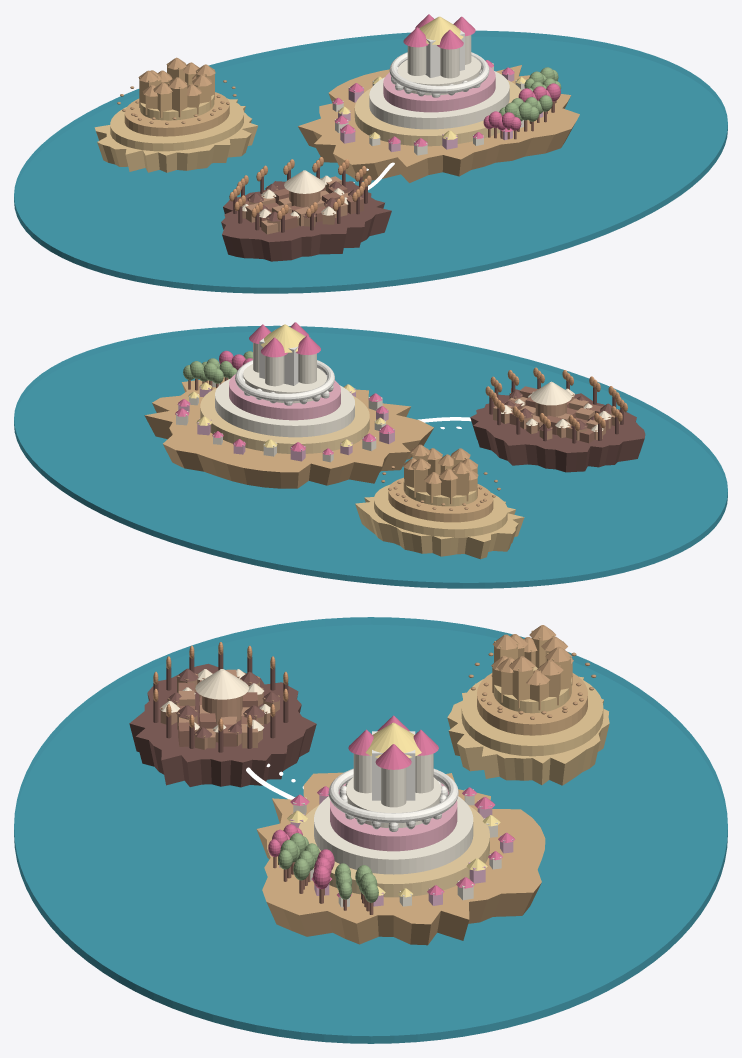
File: totto-land-food-geography.glb
3 views of the same model, one above another, from view 1: azimuth 30°, elevation 25°; view 2: azimuth 150°, elevation 25°; view 3: azimuth 270°, elevation 25° (orthographic). The views are drawn at different scales.
Parts seen in each view (by area): view 1: Totto Land food geography ocean stage, Whole Cake Island hero coast, Cacao Island whole-chocolate coast, Biscuits Island hero coast, Whole Cake sculpted tier 2, Biscuits Island cracker terrace 1, Whole Cake sculpted tier 1, Whole Cake sculpted tier 3, Biscuits Island cracker terrace 2, Whole Cake frosting garland, Whole Cake sculpted tier 4, Biscuits Island cracker terrace 3 (+5 smaller); view 2: Totto Land food geography ocean stage, Whole Cake Island hero coast, Cacao Island whole-chocolate coast, Biscuits Island hero coast, Whole Cake sculpted tier 1, Whole Cake sculpted tier 2, Biscuits Island cracker terrace 1, Whole Cake sculpted tier 3, Biscuits Island cracker terrace 2, Whole Cake frosting garland, Whole Cake sculpted tier 4, Biscuits Island cracker terrace 3 (+5 smaller); view 3: Totto Land food geography ocean stage, Whole Cake Island hero coast, Cacao Island whole-chocolate coast, Biscuits Island hero coast, Whole Cake sculpted tier 2, Biscuits Island cracker terrace 1, Whole Cake sculpted tier 1, Whole Cake sculpted tier 3, Biscuits Island cracker terrace 2, Whole Cake frosting garland, Whole Cake sculpted tier 4, Pudding home white chocolate roof (+7 smaller).
Boxes of the visible parts, x1,y1,x2,y2 form: Totto Land food geography ocean stage: (14, 30, 727, 293); Whole Cake Island hero coast: (298, 65, 579, 182); Cacao Island whole-chocolate coast: (221, 181, 391, 261); Biscuits Island hero coast: (94, 99, 257, 172); Whole Cake sculpted tier 2: (369, 71, 509, 129); Biscuits Island cracker terrace 1: (110, 98, 243, 151); Whole Cake sculpted tier 1: (354, 80, 521, 146); Whole Cake sculpted tier 3: (383, 66, 495, 112); Biscuits Island cracker terrace 2: (124, 92, 229, 136); Whole Cake frosting garland: (389, 52, 489, 93); Whole Cake sculpted tier 4: (397, 56, 481, 95); Biscuits Island cracker terrace 3: (140, 95, 214, 120); Totto Land food geography ocean stage: (14, 325, 727, 588); Whole Cake Island hero coast: (144, 377, 433, 488); Cacao Island whole-chocolate coast: (470, 388, 645, 472); Biscuits Island hero coast: (355, 497, 524, 559); Whole Cake sculpted tier 1: (200, 388, 369, 453); Whole Cake sculpted tier 2: (215, 378, 354, 437); Biscuits Island cracker terrace 1: (374, 484, 507, 537); Whole Cake sculpted tier 3: (229, 374, 340, 420); Biscuits Island cracker terrace 2: (388, 477, 493, 522); Whole Cake frosting garland: (235, 360, 334, 401); Whole Cake sculpted tier 4: (243, 364, 326, 403); Biscuits Island cracker terrace 3: (403, 479, 477, 506); Totto Land food geography ocean stage: (14, 617, 727, 1043); Whole Cake Island hero coast: (256, 772, 545, 945); Cacao Island whole-chocolate coast: (129, 663, 316, 787); Biscuits Island hero coast: (447, 676, 609, 785); Whole Cake sculpted tier 2: (314, 796, 473, 874); Biscuits Island cracker terrace 1: (461, 679, 603, 756); Whole Cake sculpted tier 1: (298, 805, 489, 897); Whole Cake sculpted tier 3: (330, 783, 457, 851); Biscuits Island cracker terrace 2: (477, 673, 587, 735); Whole Cake frosting garland: (328, 768, 458, 822); Whole Cake sculpted tier 4: (346, 777, 441, 827); Pudding home white chocolate roof: (195, 669, 248, 699).
Size of the model in its own units: 35 by 6.23 by 25.2.
